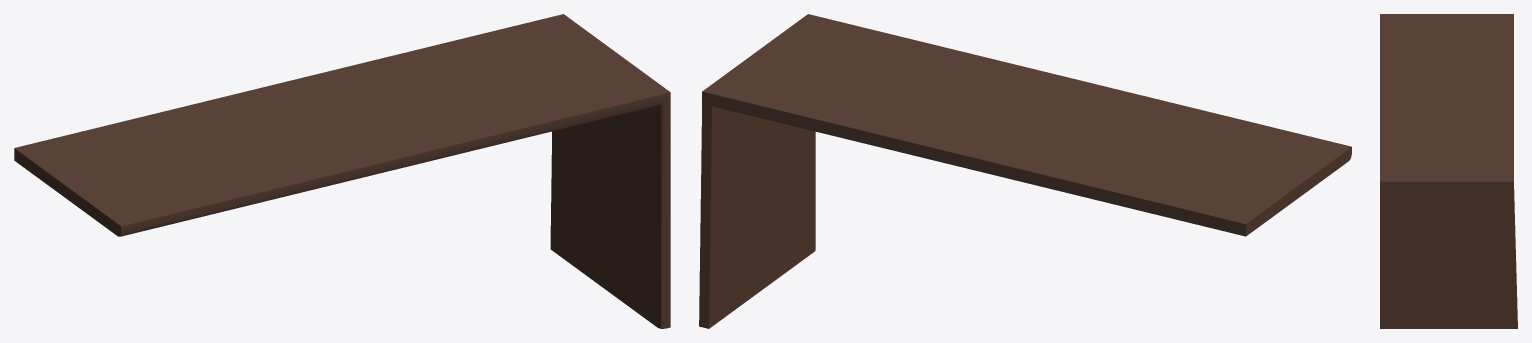
File: SM_Counter_roof.fbx
The picture shows the model from 3 angles, left to right: view 1: azimuth 30°, elevation 25°; view 2: azimuth 150°, elevation 25°; view 3: azimuth 270°, elevation 25°; orthographic projection. The views are drawn at different scales.
Visible parts, largest first — view 1: polySurface90; view 2: polySurface90; view 3: polySurface90.
Part boxes in pixels (x1=…): polySurface90: x1=14, y1=14, x2=670, y2=328; polySurface90: x1=699, y1=14, x2=1351, y2=328; polySurface90: x1=1380, y1=14, x2=1517, y2=328.
Size of the model in its own units: 302 by 124 by 105.
